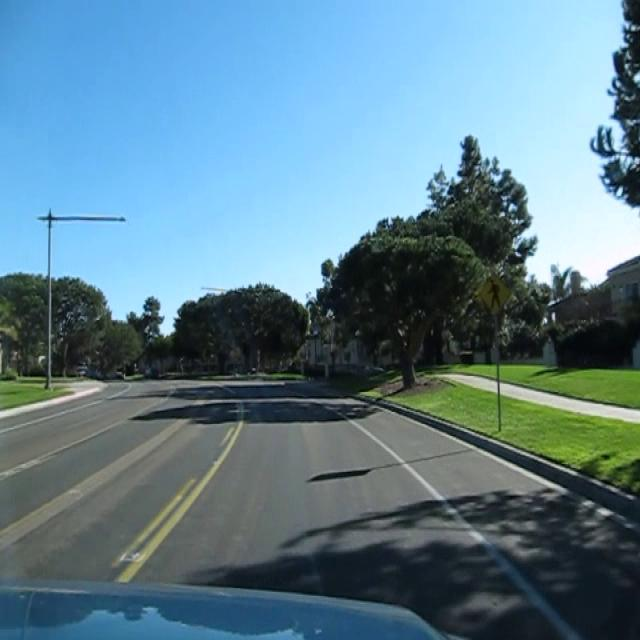pedestrianCrossing: (478, 270, 512, 318)
